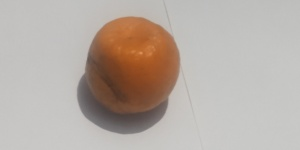BAD: (82, 14, 181, 118)
